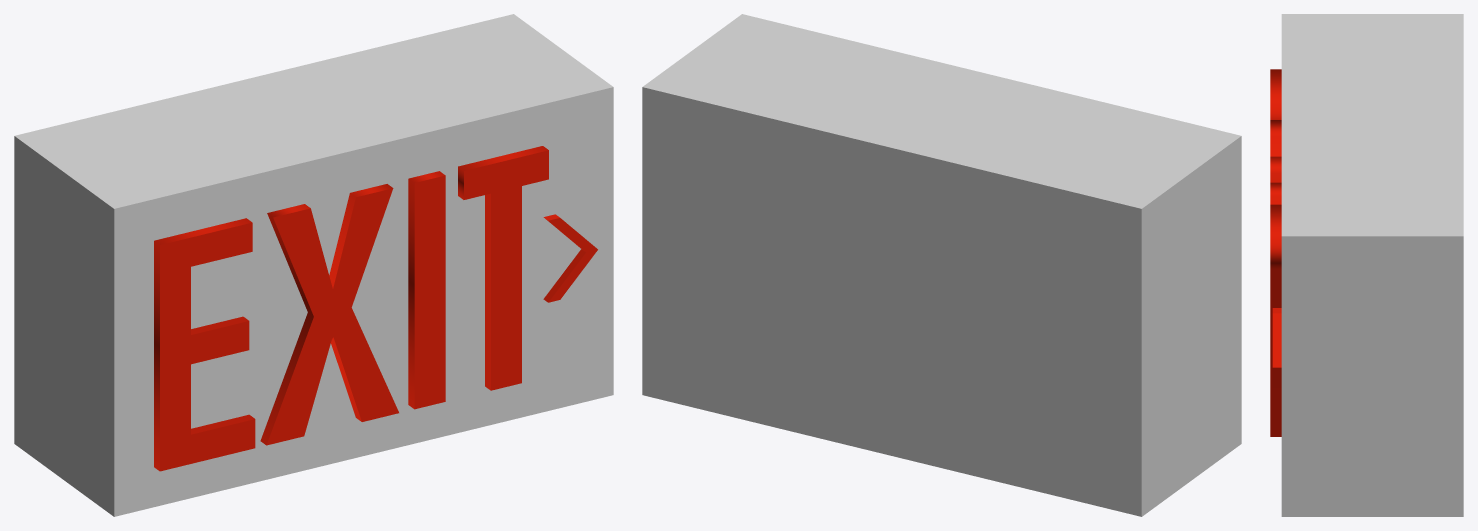
File: ExitSign.fbx
3 views of the same model, side by side, from view 1: azimuth 30°, elevation 25°; view 2: azimuth 150°, elevation 25°; view 3: azimuth 270°, elevation 25° (orthographic). The views are drawn at different scales.
Parts seen in each view (by area): view 1: Cube.001; view 2: Cube.001; view 3: Cube.001.
Part boxes in pixels (x1=…): Cube.001: x1=14, y1=14, x2=613, y2=516; Cube.001: x1=642, y1=14, x2=1241, y2=516; Cube.001: x1=1270, y1=14, x2=1463, y2=516.
Size of the model in its own units: 157 by 92.81 by 57.82.
